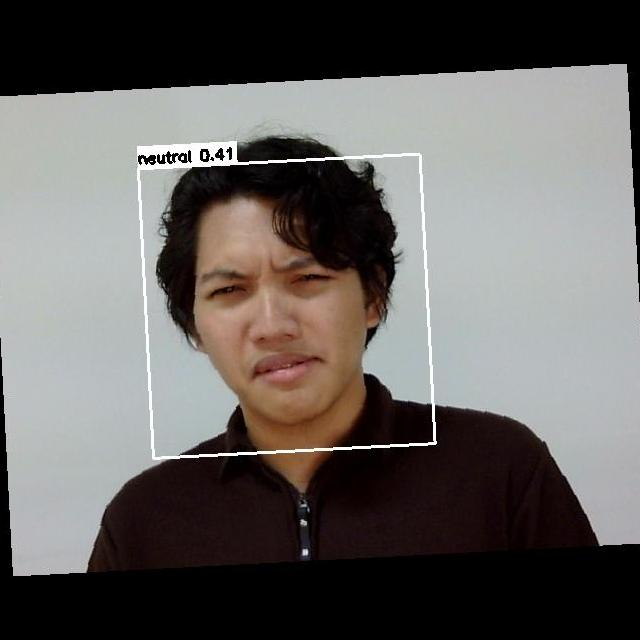Disgust: (174, 229, 358, 400)
